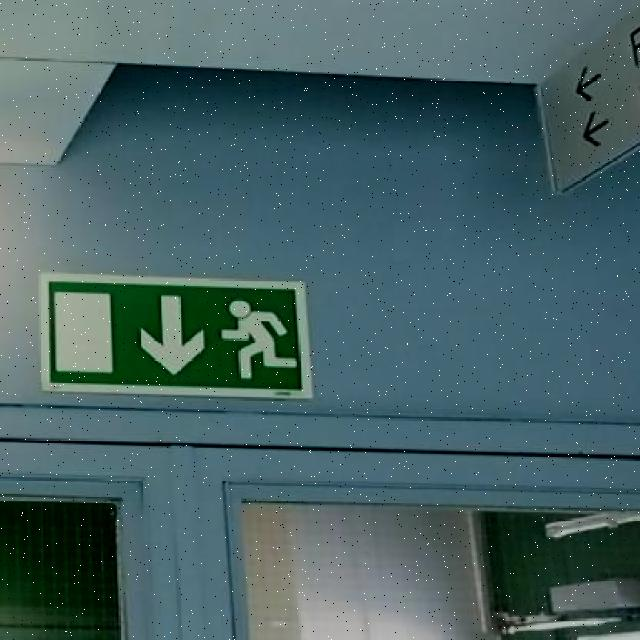emergency_exit: (38, 271, 313, 400)
